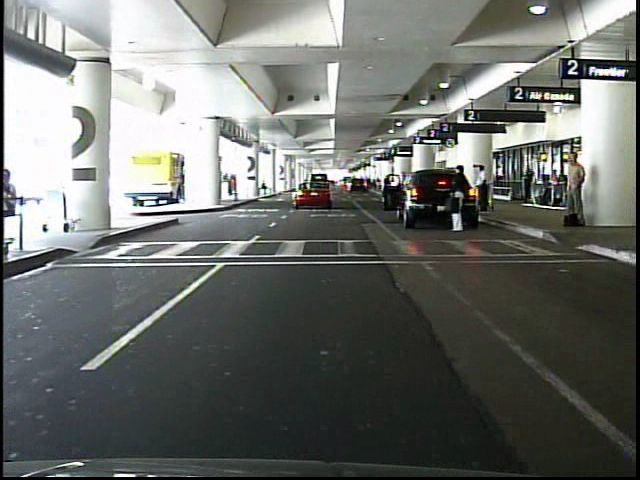person: (0, 170, 27, 234), (449, 165, 469, 234), (473, 163, 490, 212), (522, 162, 534, 201)
